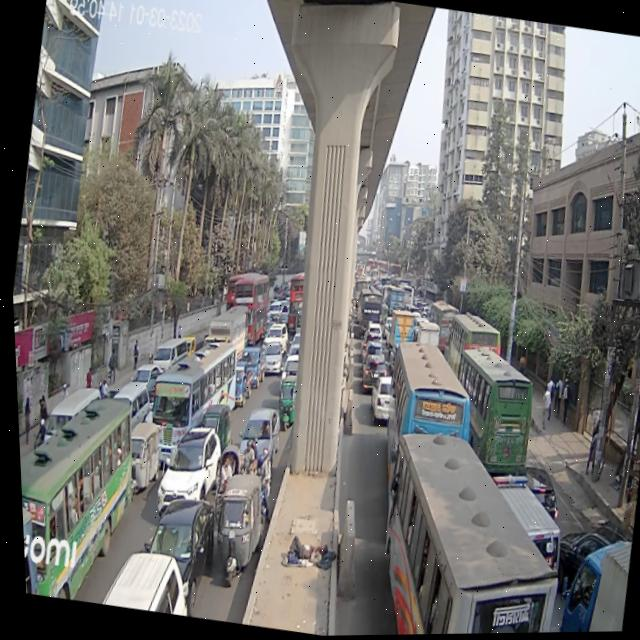cng: (190, 390, 239, 473), (265, 374, 302, 436)
